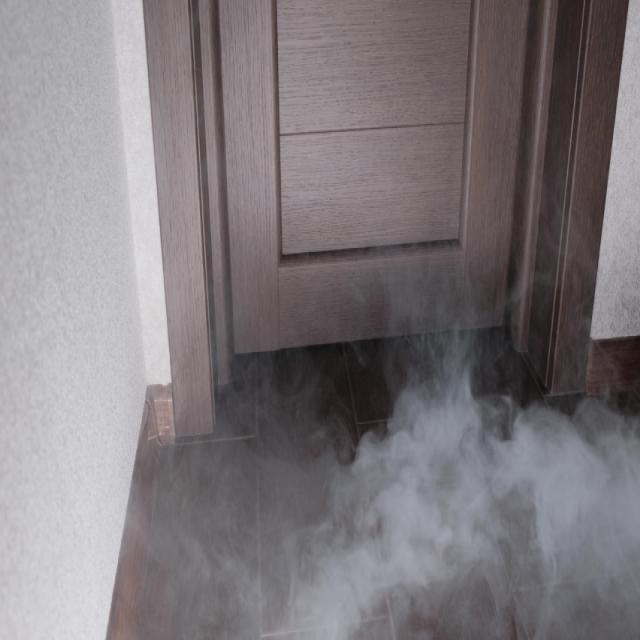smoke: (363, 372, 640, 638)
